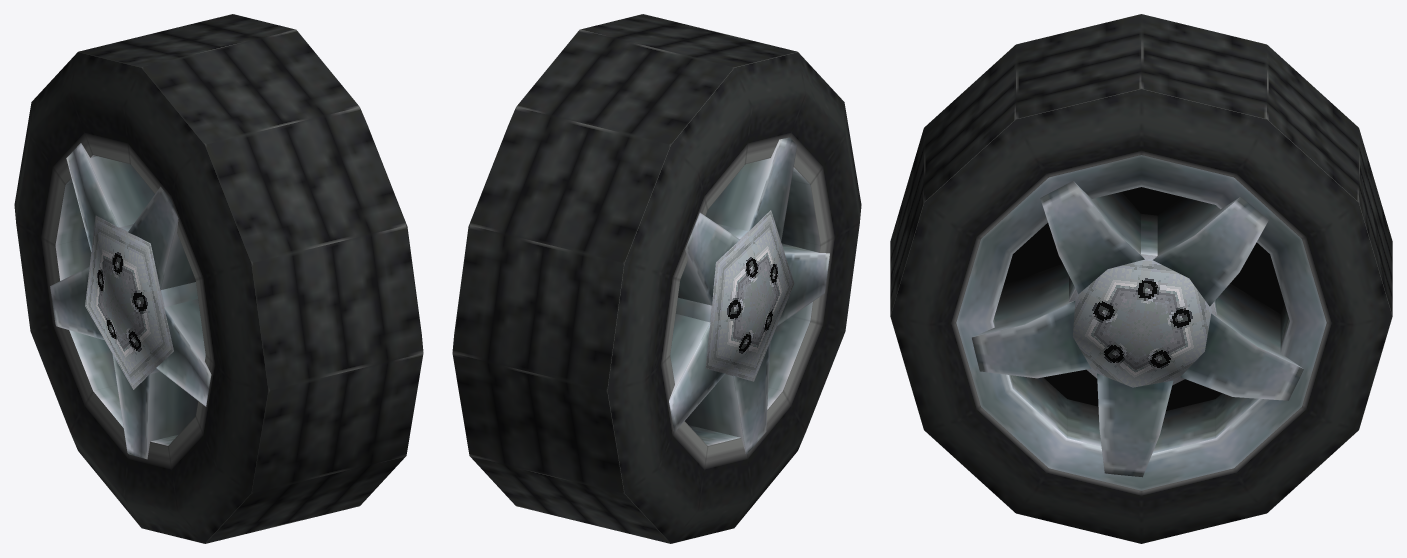
Rendered from DefaultWheel_banshee.glb.
The picture shows the model from 3 angles, left to right: view 1: azimuth 30°, elevation 25°; view 2: azimuth 150°, elevation 25°; view 3: azimuth 270°, elevation 25°; orthographic projection.
Parts seen in each view (by area): view 1: wheel; view 2: wheel; view 3: wheel.
Boxes of the visible parts, left/top/right/bottom form: wheel: left=14, top=14, right=423, bottom=543; wheel: left=452, top=14, right=861, bottom=543; wheel: left=890, top=14, right=1392, bottom=543.
Size of the model in its own units: 0.3373 by 0.7 by 0.7.
Materials: 4 (3 with a texture image).
